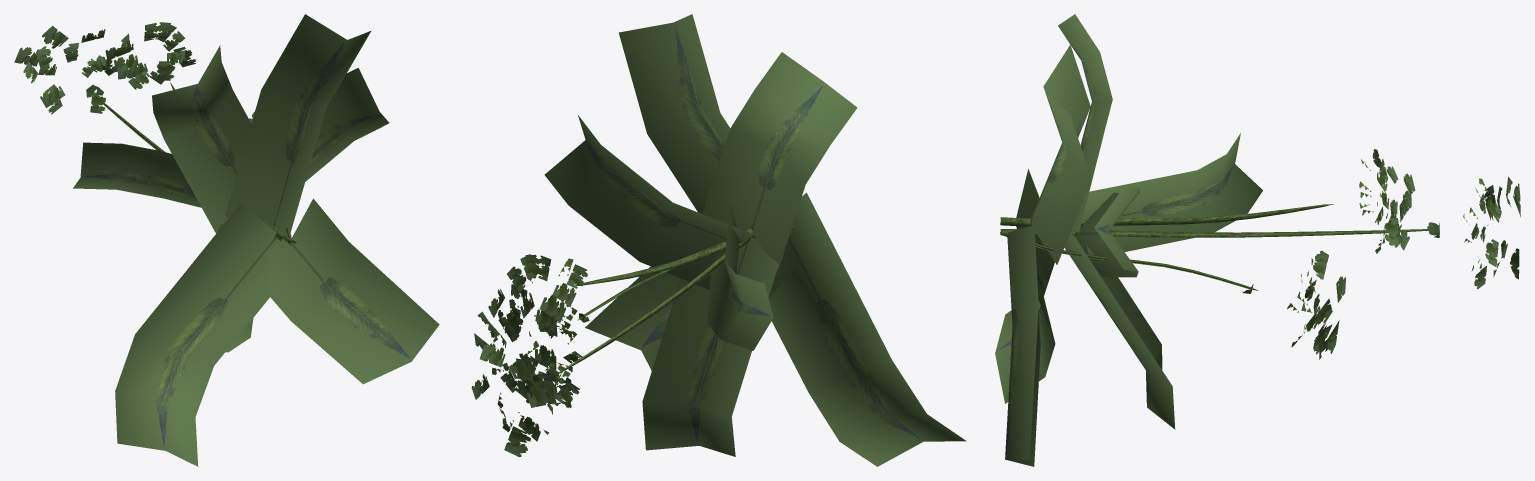
Rendered from plant2.FBX.
3 views of the same model, side by side, from view 1: azimuth 30°, elevation 25°; view 2: azimuth 150°, elevation 25°; view 3: azimuth 270°, elevation 25° (orthographic). The views are drawn at different scales.
Visible parts, largest first — view 1: plant2_LOD0; view 2: plant2_LOD0; view 3: plant2_LOD0.
Boxes of the visible parts, x1=… form: plant2_LOD0: x1=14, y1=14, x2=439, y2=466; plant2_LOD0: x1=471, y1=14, x2=966, y2=466; plant2_LOD0: x1=995, y1=14, x2=1520, y2=466.
Size of the model in its own units: 47.35 by 59.42 by 53.91.
